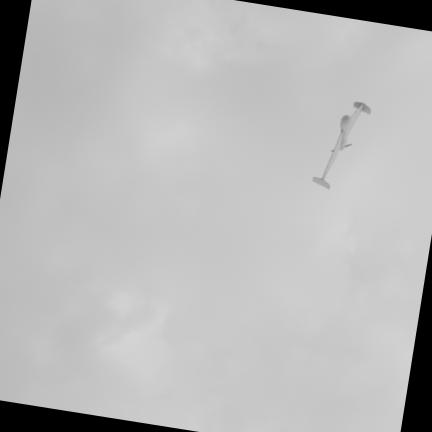Shahed: (312, 102, 371, 190)
